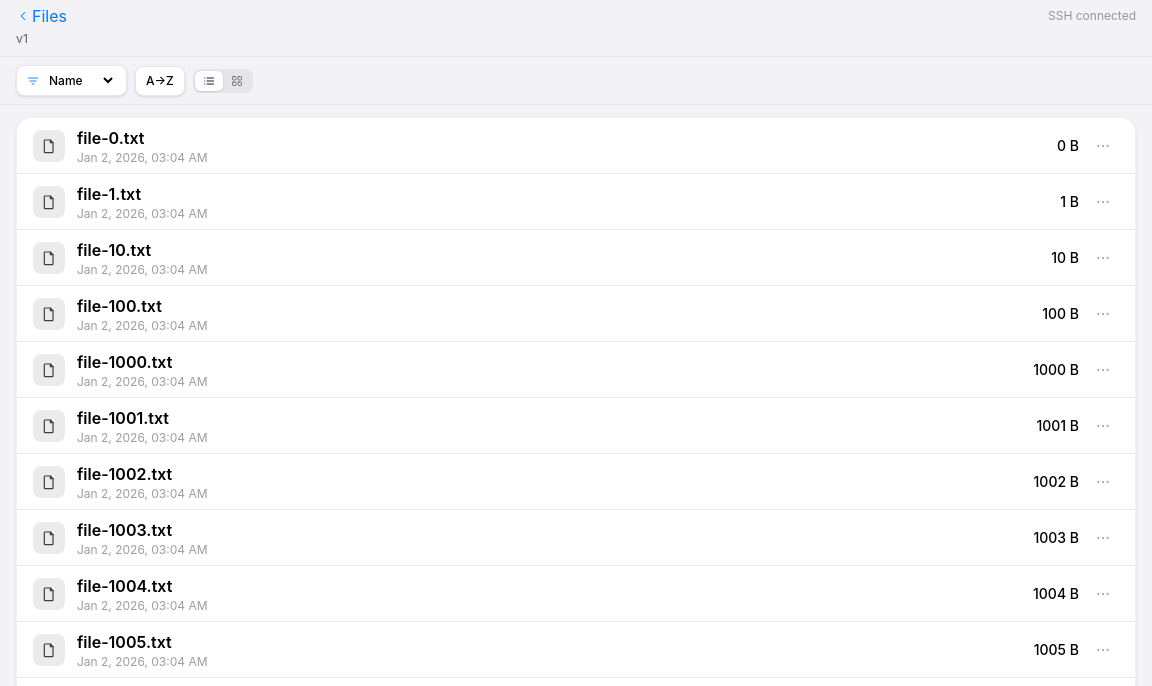
Test: virtualization › windows the grid view for a 10k-entry listing
Expected: the element with test id "entry-0" is shown, [17,118,1135,174]
Click the button with test id "view-grid".
click(237, 80)  # box [223,70,251,90]
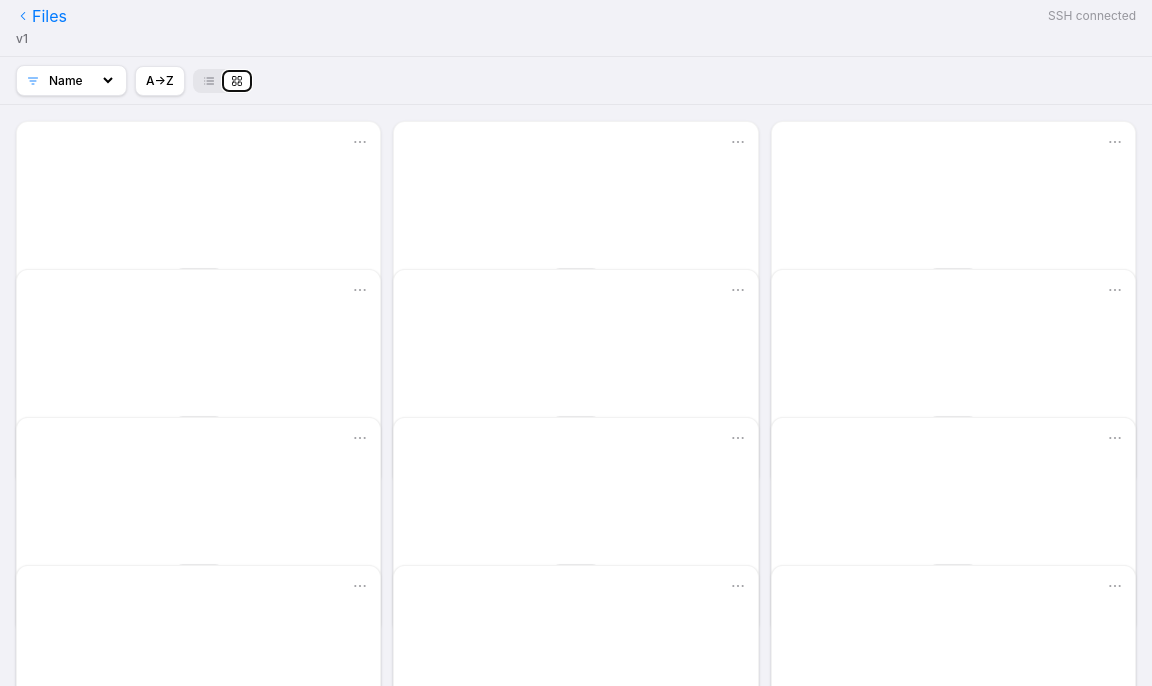
Now the element with test id "grid-row-0" is shown, box [16,121,1136,269]
